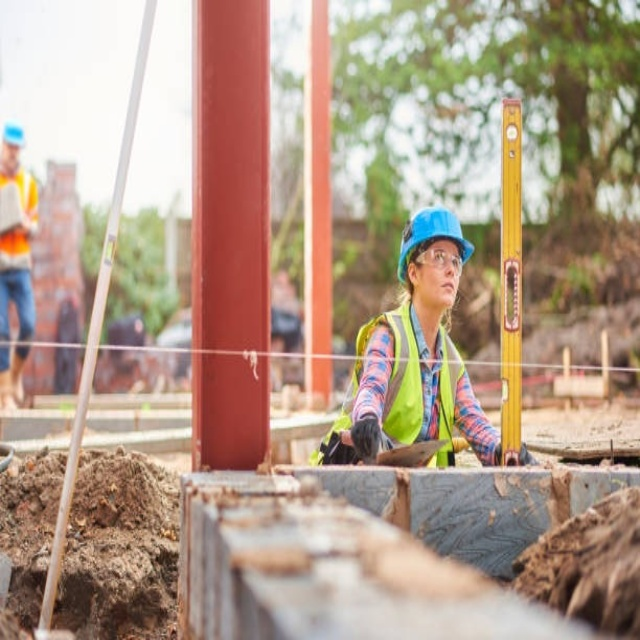Gafas: (418, 248, 464, 273)
Guantes: (348, 409, 386, 464)
Sin_mascara: (436, 279, 457, 301)
